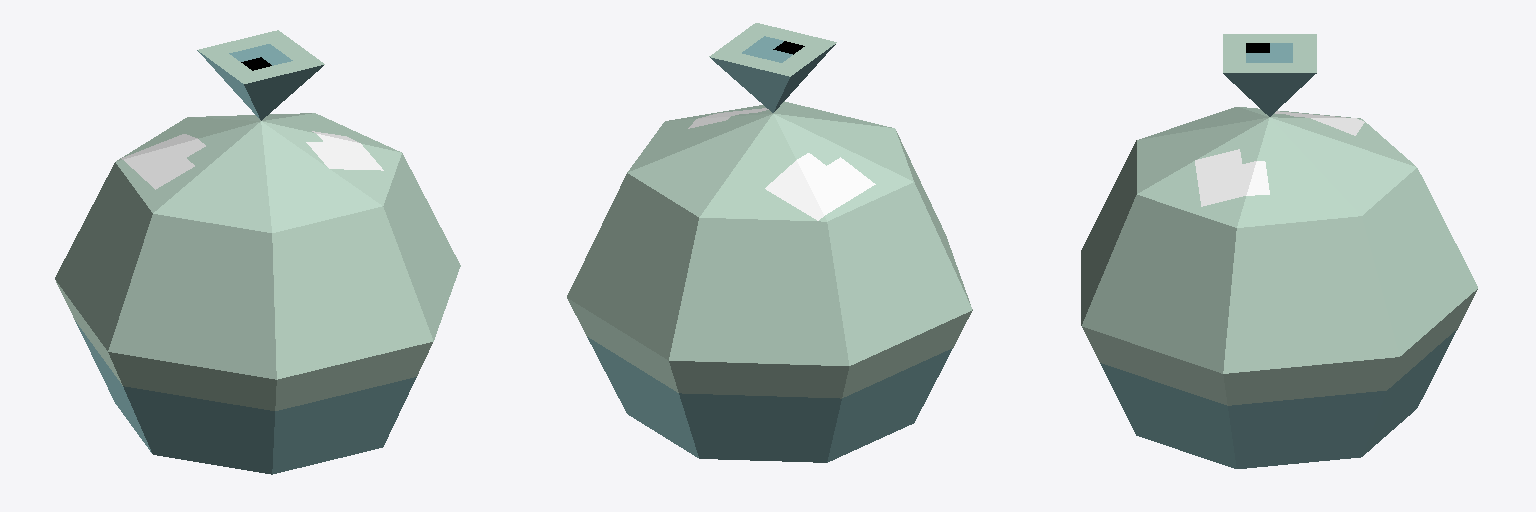
3 views of the same model, side by side, from view 1: azimuth 30°, elevation 25°; view 2: azimuth 150°, elevation 25°; view 3: azimuth 270°, elevation 25° (orthographic).
Parts seen in each view (by area): view 1: sphere, pyramid; view 2: sphere, pyramid; view 3: sphere, pyramid.
Part boxes in pixels (bbox=[...]): sphere: bbox=[55, 113, 460, 474]; pyramid: bbox=[197, 30, 324, 120]; sphere: bbox=[567, 101, 972, 462]; pyramid: bbox=[709, 23, 836, 112]; sphere: bbox=[1081, 107, 1477, 468]; pyramid: bbox=[1223, 34, 1316, 116].
Bounding box in the file's own units: 1.08 × 1.19 × 1.05.
1 materials, 1 textured.